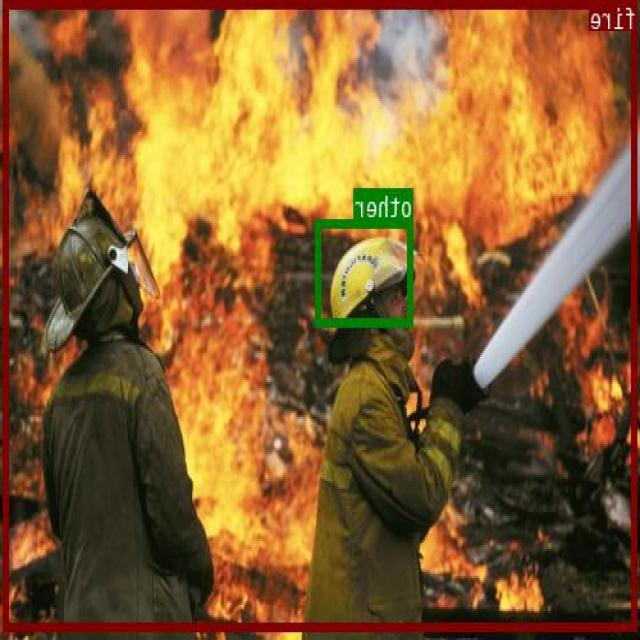fire: (5, 0, 639, 630)
other: (316, 218, 414, 324)
